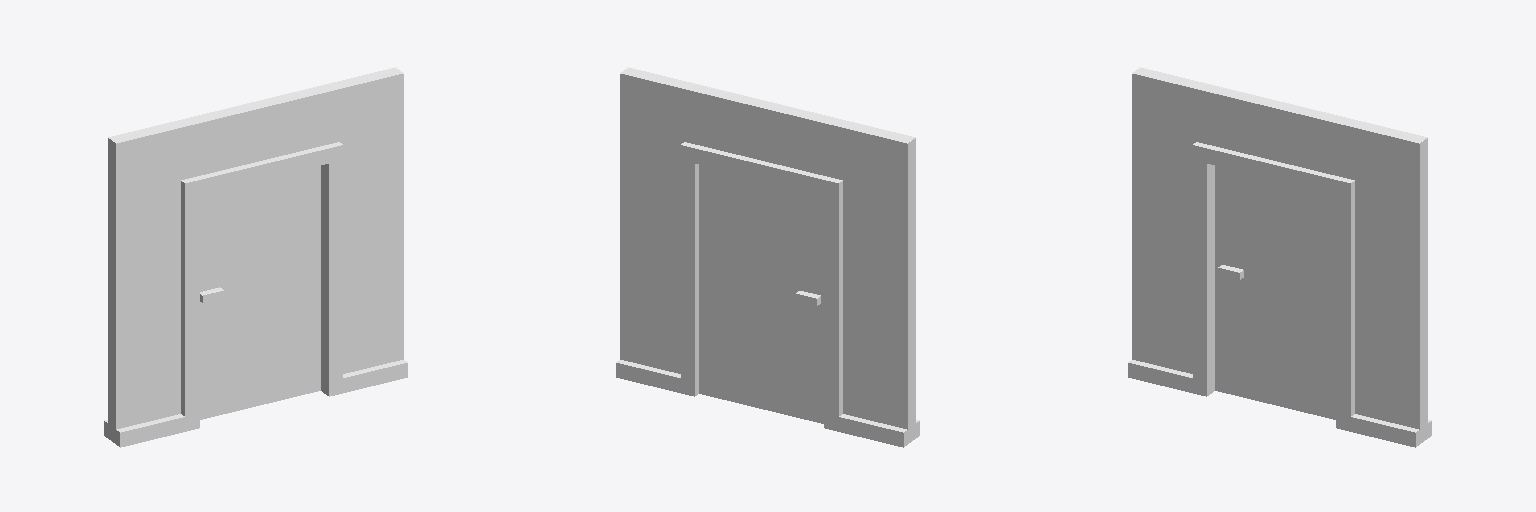
File: Door02.obj
3 views of the same model, side by side, from view 1: azimuth 30°, elevation 25°; view 2: azimuth 150°, elevation 25°; view 3: azimuth 330°, elevation 25° (orthographic).
Parts seen in each view (by area): view 1: object 1; view 2: object 1; view 3: object 1.
Part boxes in pixels (bbox=[...]): object 1: bbox=[104, 67, 407, 447]; object 1: bbox=[616, 67, 919, 447]; object 1: bbox=[1128, 67, 1431, 447].
Bounding box in the file's own units: 4 × 4 × 0.4.